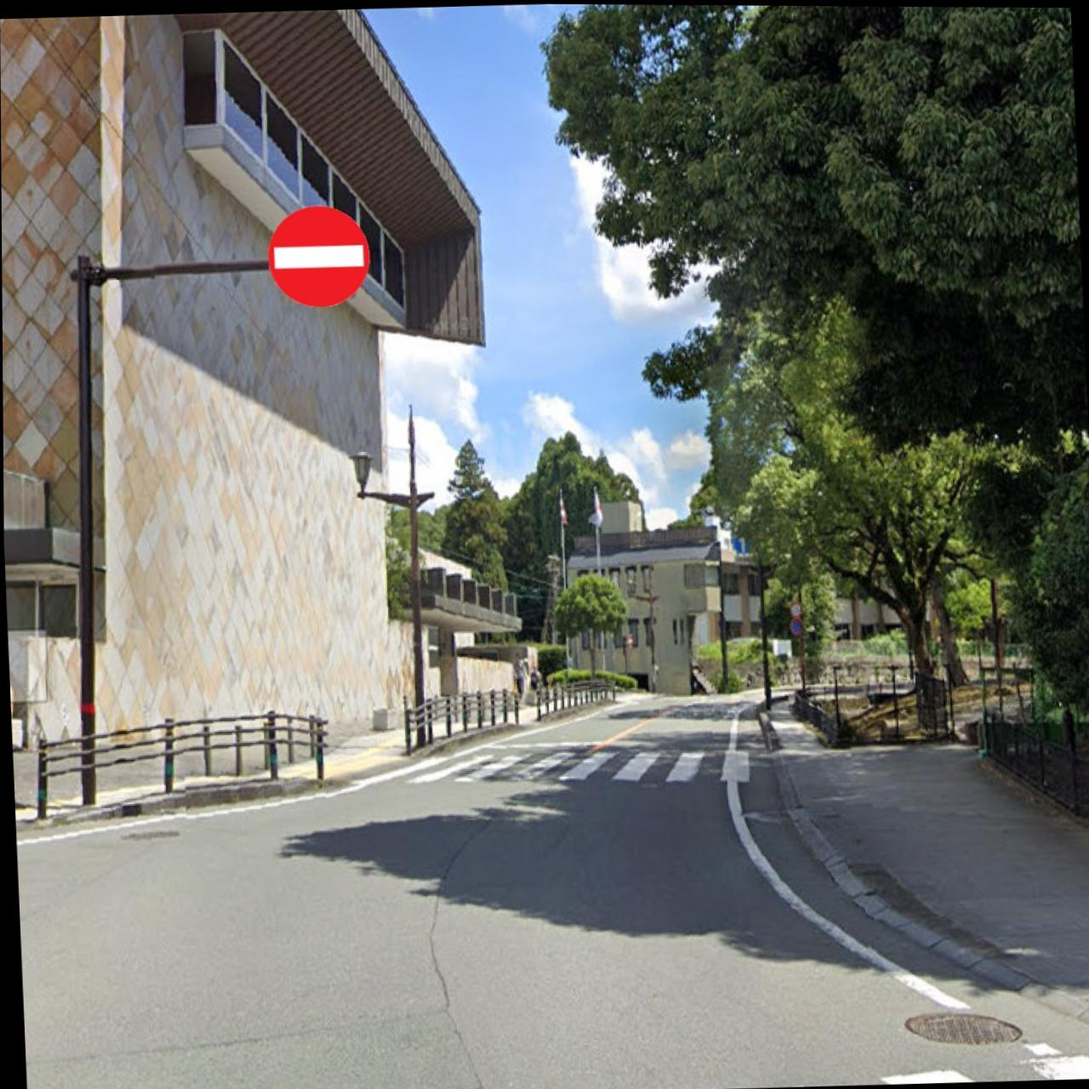barrier: (266, 198, 375, 312)
